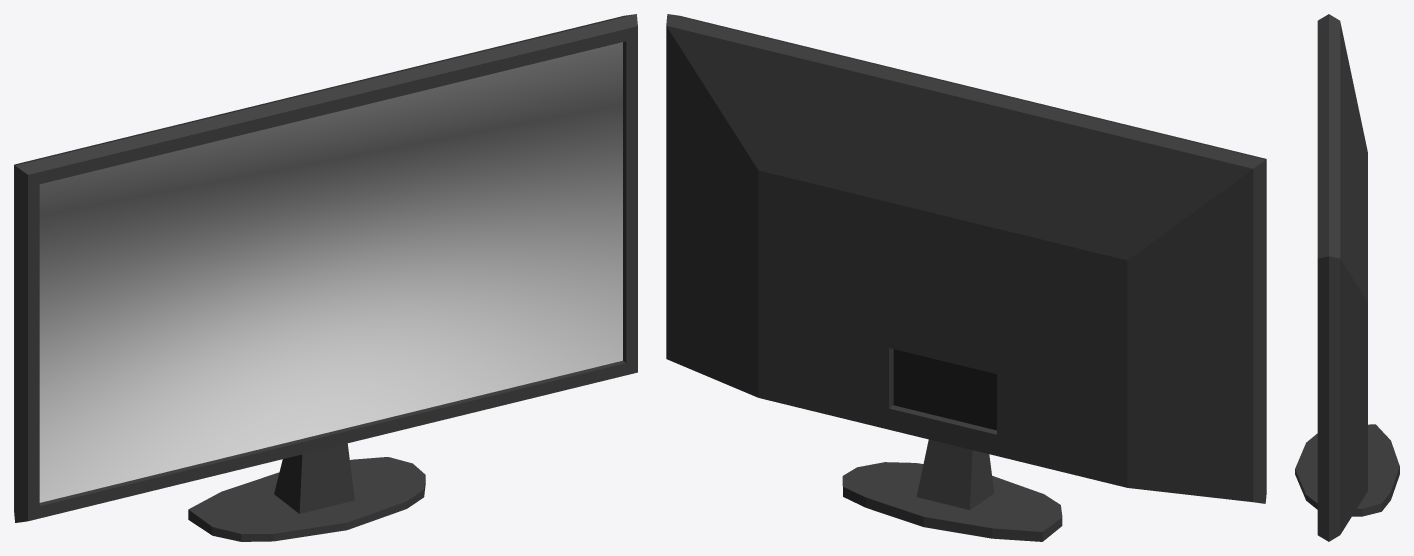
The picture shows the model from 3 angles, left to right: view 1: azimuth 30°, elevation 25°; view 2: azimuth 150°, elevation 25°; view 3: azimuth 270°, elevation 25°; orthographic projection. The views are drawn at different scales.
Parts seen in each view (by area): view 1: TV; view 2: TV; view 3: TV.
Boxes of the visible parts, box(x1,y1,x2,y2) form: TV: box(14, 14, 637, 541); TV: box(666, 14, 1266, 541); TV: box(1295, 14, 1399, 541).
Bounding box in the file's own units: 98.99 × 64.65 × 18.07.
